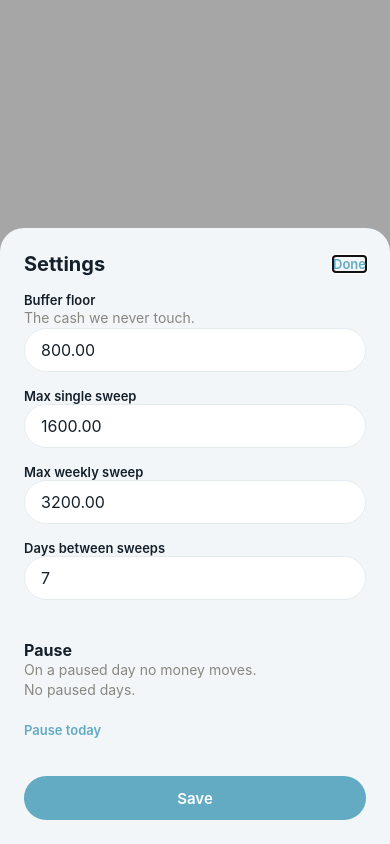
Test: the settings screen › pause takes a confirm, then lists the day, and it is removable
The width and height of the screenshot is (390, 844).
Expected: the button with test id "settings-save" is shown, [24,776,366,820]
Click the button with test id "pause-today".
click(63, 730)  # box [24,708,366,752]
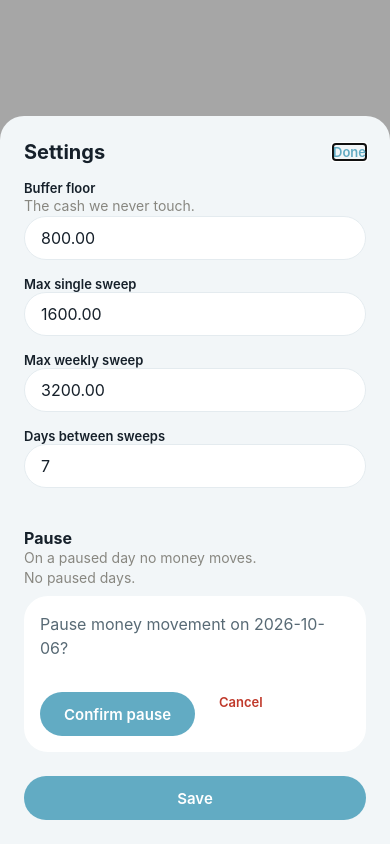
Now the element with test id "pause-confirm" is shown, box [24,596,366,752]
Click the button with test id "pause-confirm-yes".
click(118, 714)  # box [40,692,195,736]
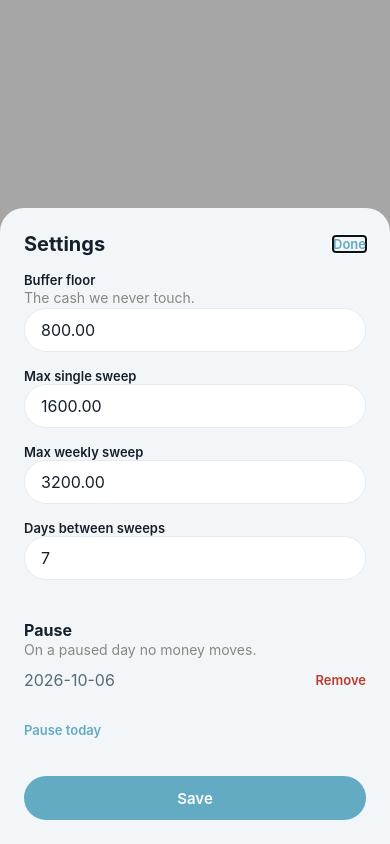
Now the element with test id "^pause-2" is shown, box [24,670,366,690]
